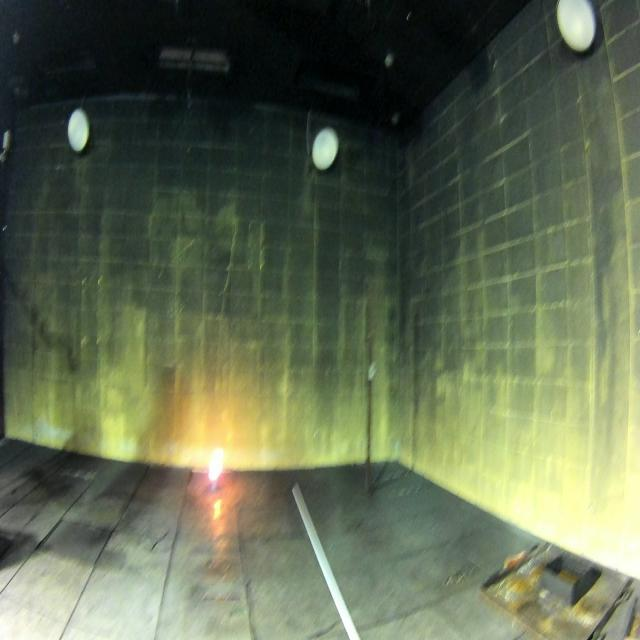Fire: (208, 448, 224, 480)
